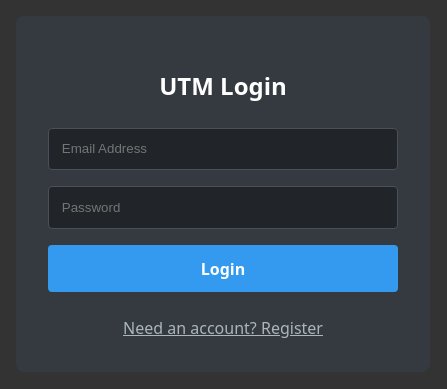
Test: AuthModal Component › Should toggle to the "Create Account" view when the secondary button is clicked
Click the text "Need an account? Register". click: (223,328)
box: [123,317,323,339]
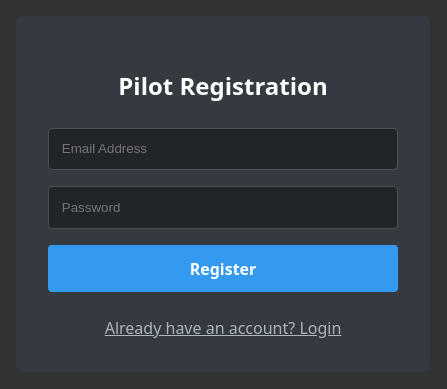
Now the heading "Pilot Registration" is shown, box [118,69,328,102]
Now the button "Register" is shown, box [48,245,398,292]
Now the text "Already have an account? Login" is shown, box [105,317,341,339]
